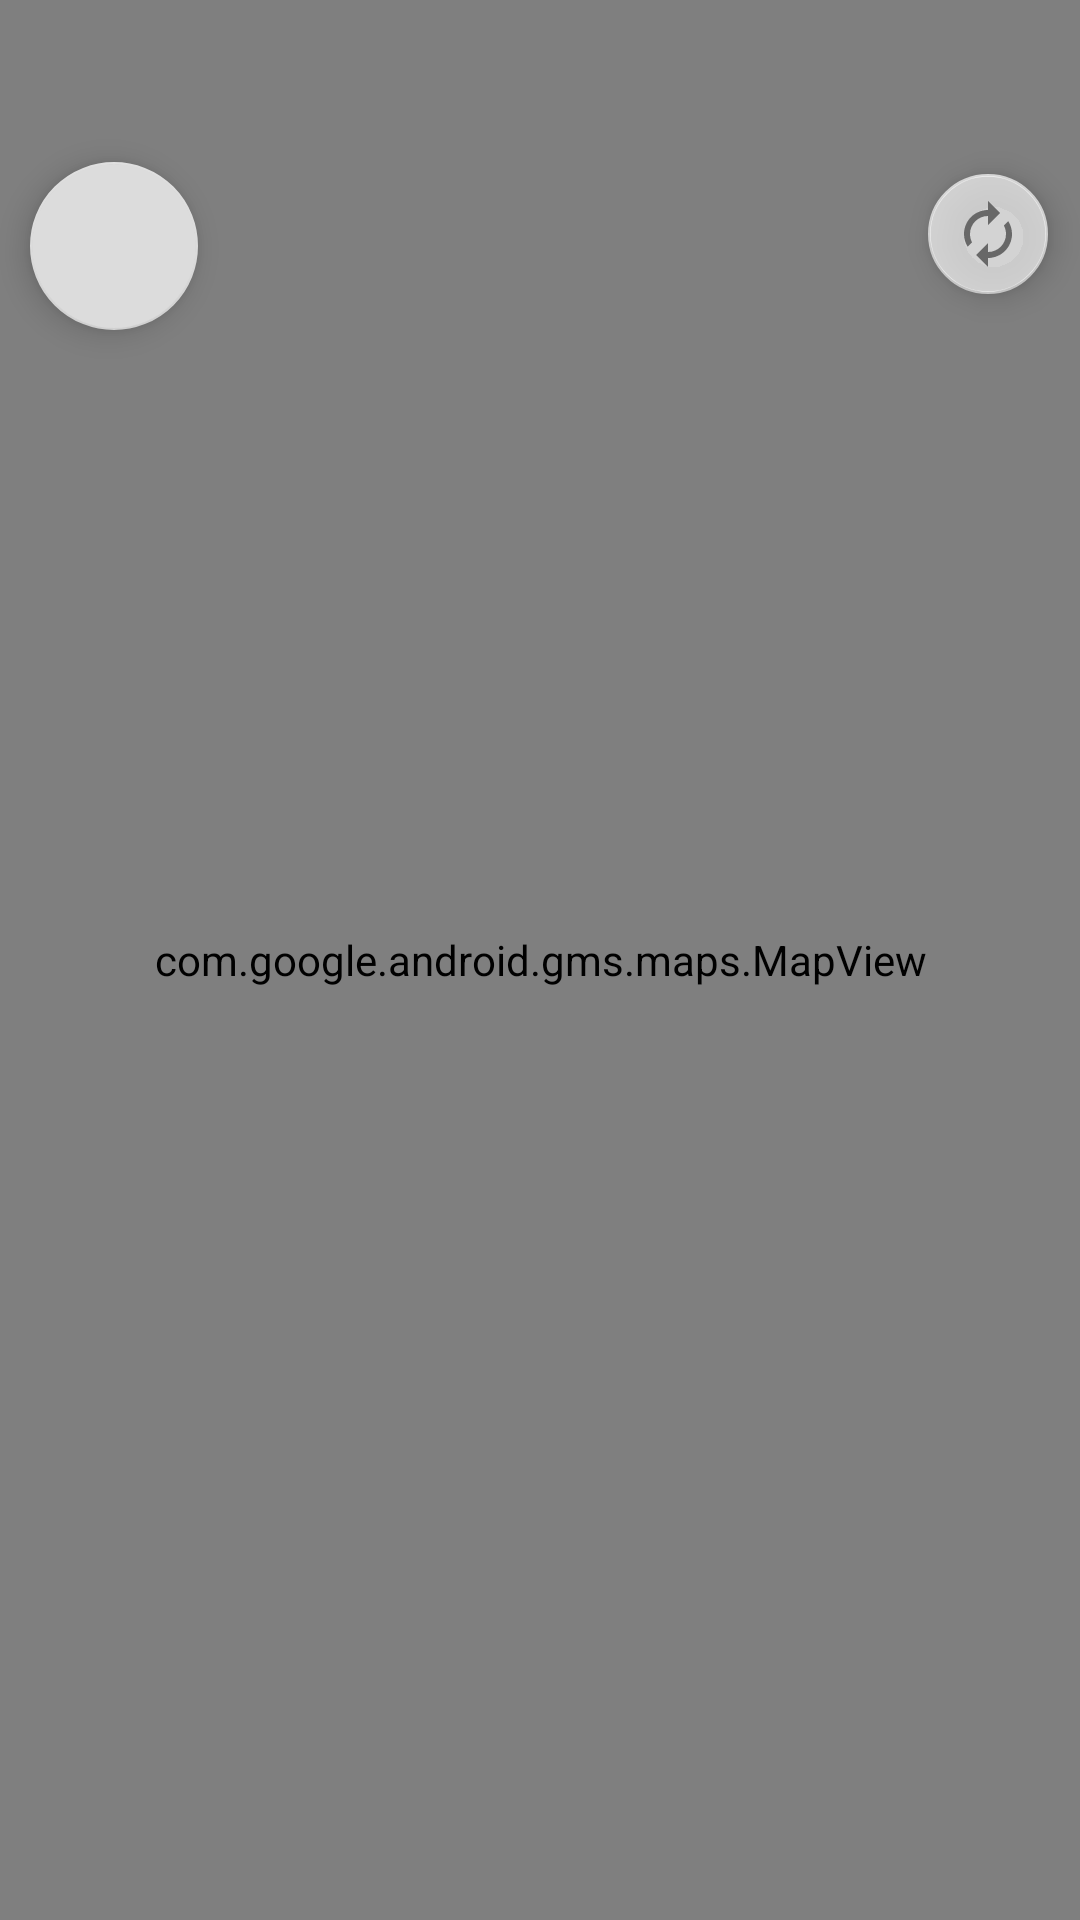

Named icons in this screenshot (1080 x 1920) and their bounding boxes, region(x1, y1, x2, y2):
autorenew: region(928, 174, 1048, 294)
